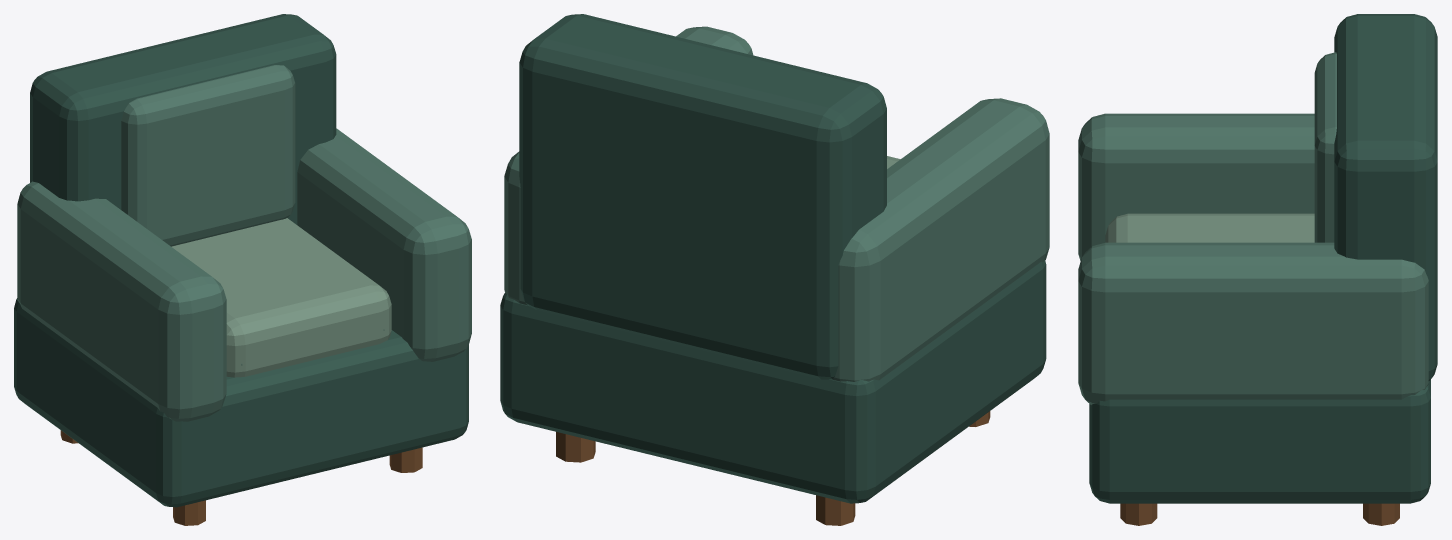
Rendered from armchair_waiting.glb.
3 views of the same model, side by side, from view 1: azimuth 30°, elevation 25°; view 2: azimuth 150°, elevation 25°; view 3: azimuth 270°, elevation 25° (orthographic). The views are drawn at different scales.
Parts seen in each view (by area): view 1: armchair_waiting__green_velvet, armchair_waiting__green_shadow, armchair_waiting__green_edge, armchair_waiting__oak_dark; view 2: armchair_waiting__green_shadow, armchair_waiting__green_velvet, armchair_waiting__oak_dark; view 3: armchair_waiting__green_velvet, armchair_waiting__green_shadow, armchair_waiting__green_edge, armchair_waiting__oak_dark.
Part boxes in pixels (x1,y1,x2,y2): armchair_waiting__green_velvet: (17, 65, 471, 421); armchair_waiting__green_shadow: (14, 14, 468, 507); armchair_waiting__green_edge: (171, 218, 391, 377); armchair_waiting__oak_dark: (60, 430, 422, 525); armchair_waiting__green_shadow: (500, 14, 1046, 503); armchair_waiting__green_velvet: (504, 26, 1049, 381); armchair_waiting__oak_dark: (556, 411, 990, 525); armchair_waiting__green_velvet: (1078, 52, 1428, 404); armchair_waiting__green_shadow: (1089, 14, 1437, 503); armchair_waiting__green_edge: (1105, 213, 1314, 242); armchair_waiting__oak_dark: (1120, 503, 1399, 525).
Bounding box in the file's own units: 0.86 × 0.94 × 0.8.
